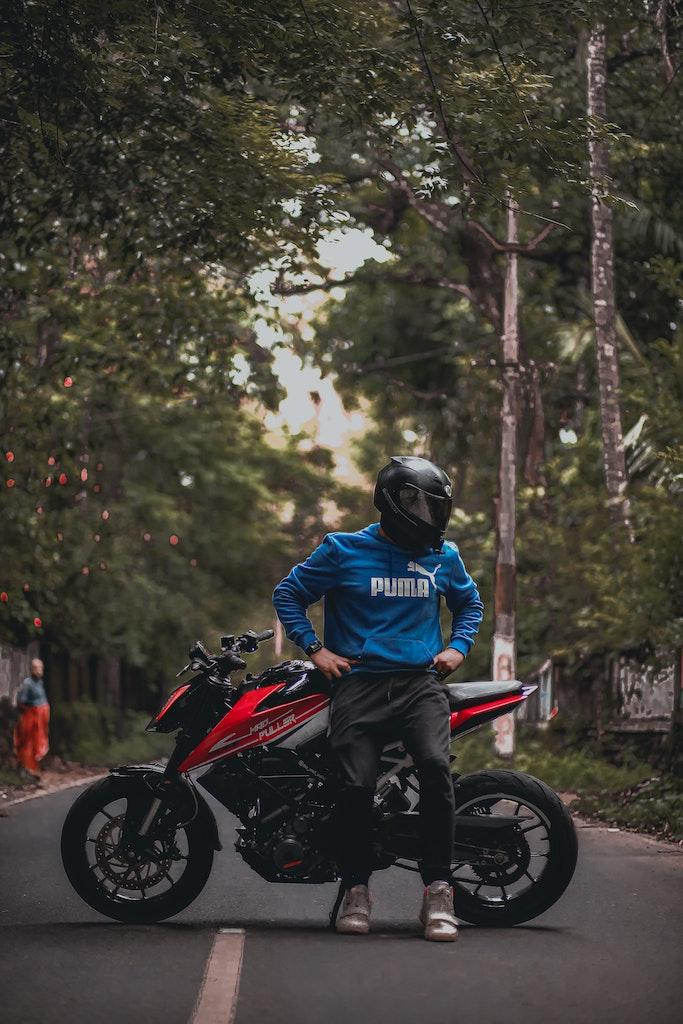helmet: (373, 455, 455, 556)
